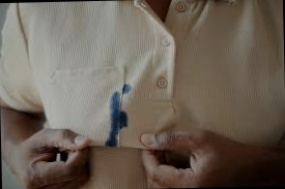ink: (108, 92, 120, 144), (121, 111, 127, 128), (122, 84, 131, 94)
